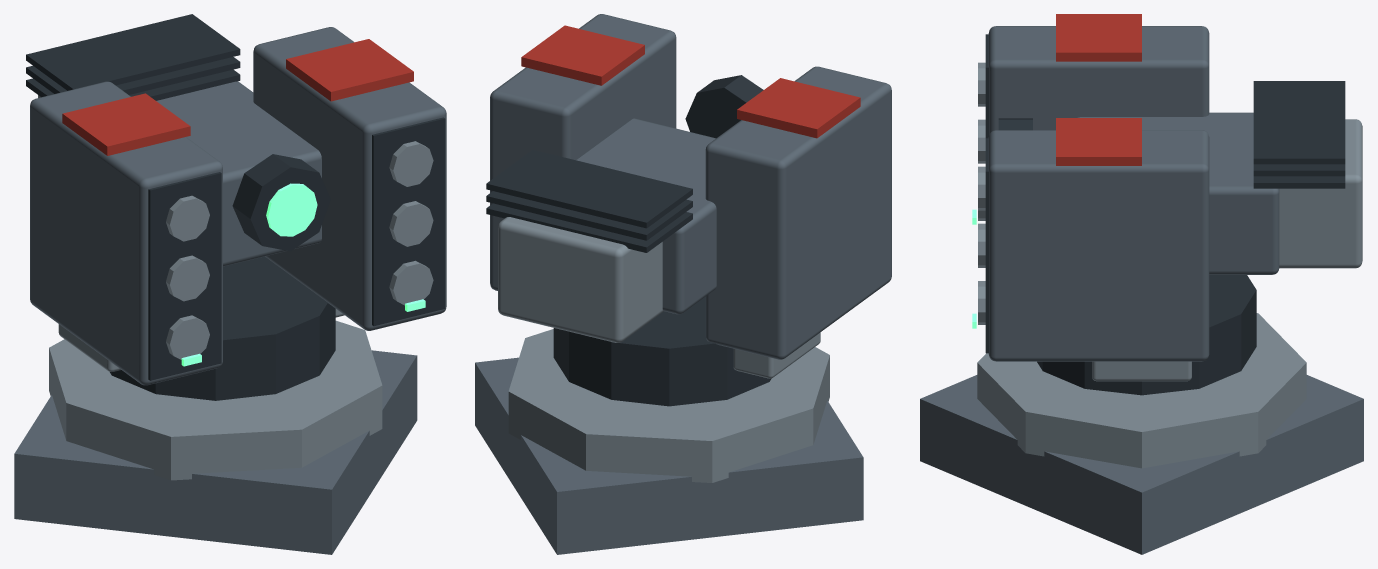
Rendered from quiver_t1_d0.meshopt.glb.
3 renders of one model, left to right at view 1: azimuth 30°, elevation 25°; view 2: azimuth 150°, elevation 25°; view 3: azimuth 270°, elevation 25°, orthographic. The views are drawn at different scales.
Visible parts, largest first — view 1: RECOIL_ARMOR_GEOMETRY, BASE_ARMOR_GEOMETRY, YAW_ARMOR_GEOMETRY, RECOIL_SIGNAL_GEOMETRY; view 2: RECOIL_ARMOR_GEOMETRY, BASE_ARMOR_GEOMETRY, YAW_ARMOR_GEOMETRY; view 3: RECOIL_ARMOR_GEOMETRY, BASE_ARMOR_GEOMETRY, YAW_ARMOR_GEOMETRY.
Part boxes in pixels (x1,y1,x2,y2): RECOIL_ARMOR_GEOMETRY: [26, 14, 446, 385]; BASE_ARMOR_GEOMETRY: [14, 320, 417, 554]; YAW_ARMOR_GEOMETRY: [58, 256, 344, 400]; RECOIL_SIGNAL_GEOMETRY: [181, 183, 425, 366]; RECOIL_ARMOR_GEOMETRY: [486, 14, 891, 359]; BASE_ARMOR_GEOMETRY: [475, 329, 863, 554]; YAW_ARMOR_GEOMETRY: [553, 297, 820, 406]; RECOIL_ARMOR_GEOMETRY: [978, 14, 1362, 361]; BASE_ARMOR_GEOMETRY: [920, 313, 1363, 554]; YAW_ARMOR_GEOMETRY: [1037, 275, 1256, 395].
Bounding box in the file's own units: 1.55 × 1.45 × 1.55.
